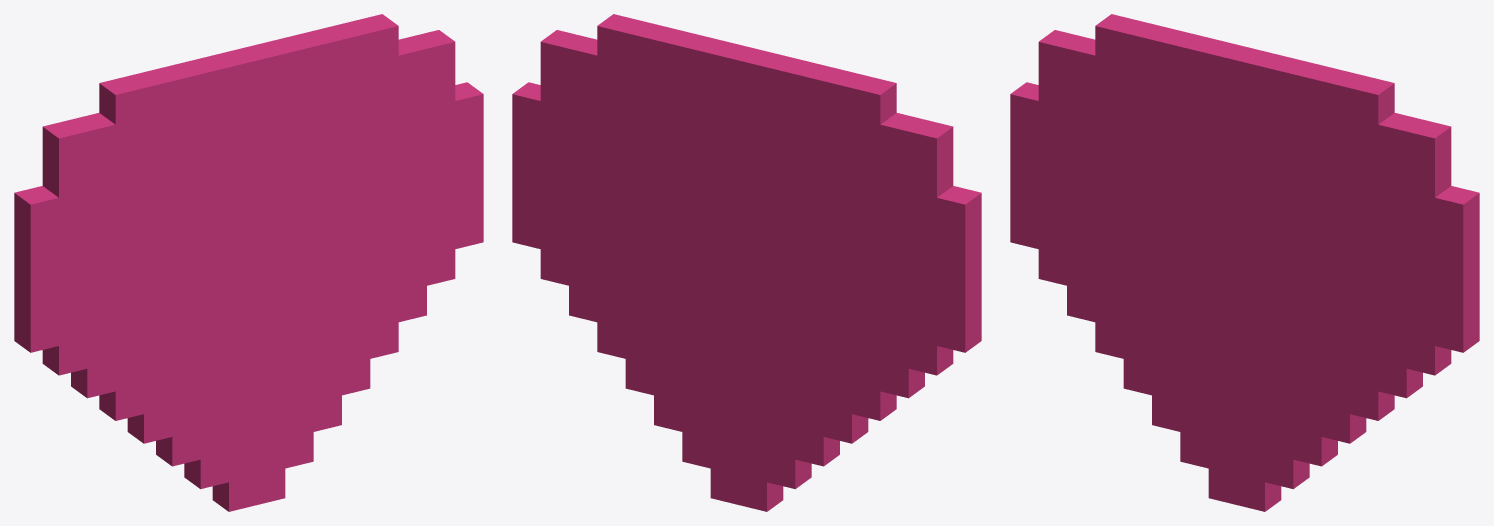
Rendered from HP_Full.obj.
The picture shows the model from 3 angles, left to right: view 1: azimuth 30°, elevation 25°; view 2: azimuth 150°, elevation 25°; view 3: azimuth 330°, elevation 25°; orthographic projection.
Size of the model in its own units: 16 by 15 by 1.
1 material, 1 textured.
